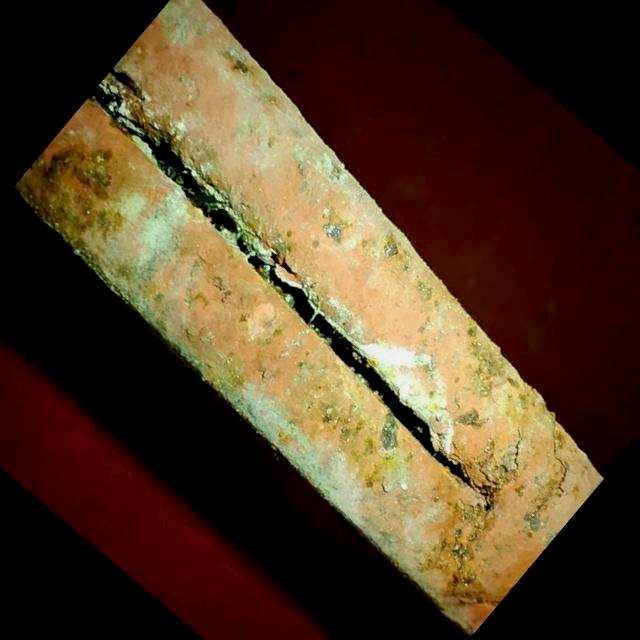defect: (88, 80, 477, 487), (550, 430, 570, 498), (509, 425, 523, 472)
